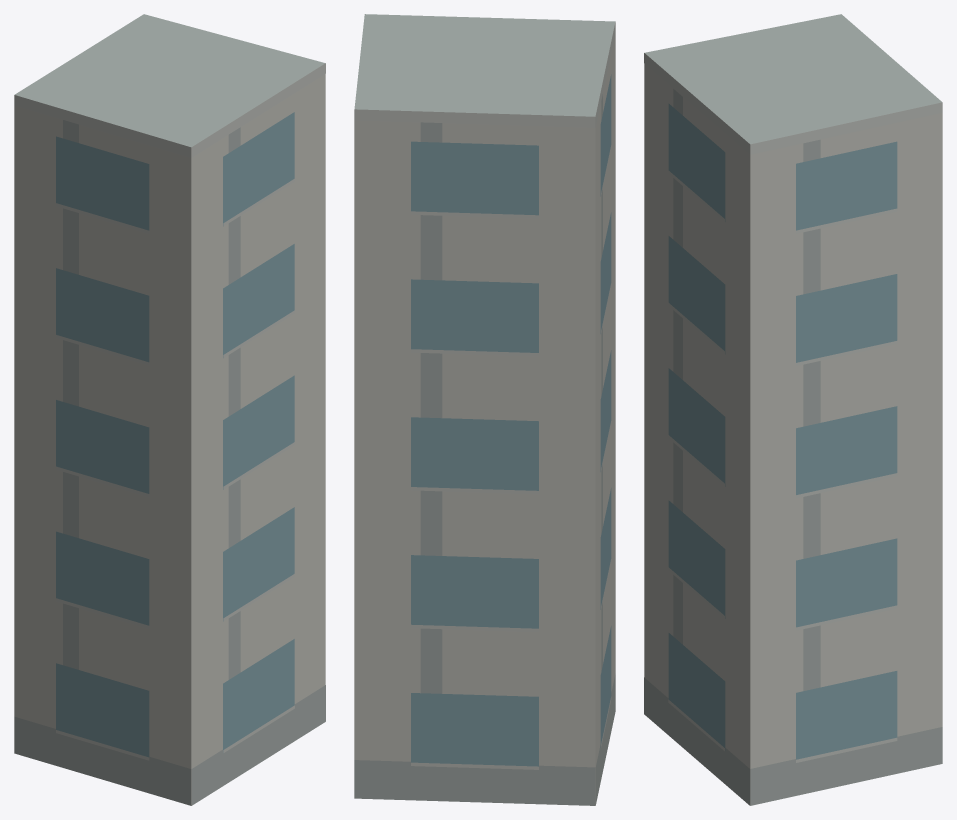
File: survey-upis-32699487.glb
The picture shows the model from 3 angles, left to right: view 1: azimuth 30°, elevation 25°; view 2: azimuth 150°, elevation 25°; view 3: azimuth 270°, elevation 25°; orthographic projection. The views are drawn at different scales.
Visible parts, largest first — view 1: survey-upis-32699487.tmp; view 2: survey-upis-32699487.tmp; view 3: survey-upis-32699487.tmp.
Part boxes in pixels (box(x1,y1,x2,y2)): survey-upis-32699487.tmp: box(14, 14, 325, 805); survey-upis-32699487.tmp: box(354, 14, 615, 805); survey-upis-32699487.tmp: box(644, 14, 942, 805).
Bounding box in the file's own units: 6.46 × 15.25 × 6.24.
